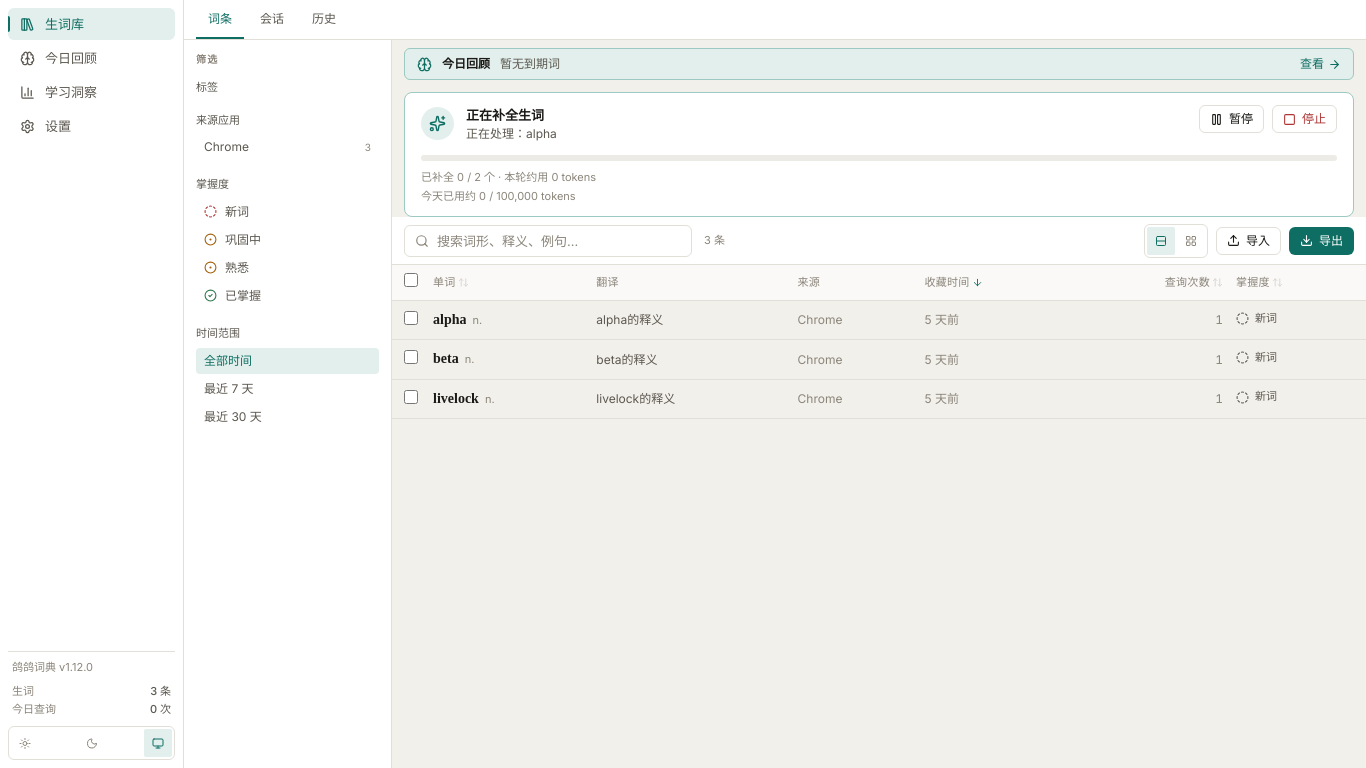
Test: the word list in the library › filling in the words that have only a meaning › does not start a second batch from the selection while one is going on
Expected: the text "正在补全生词" is shown, [466,107,544,123]
Click the checkbox named "选择 beta": (411, 357) [404,350,418,364]
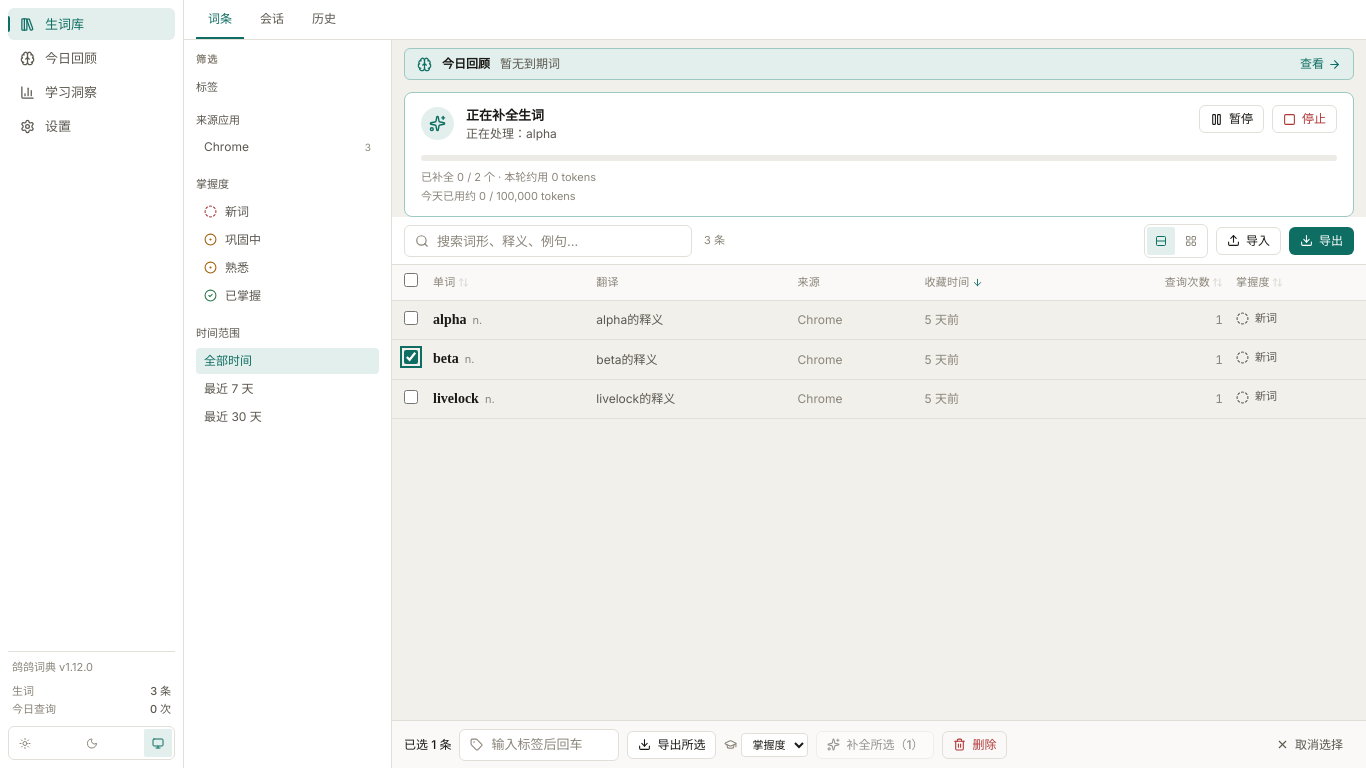
Expected: the button "补全所选（1）" is disabled, [816,730,934,758]
